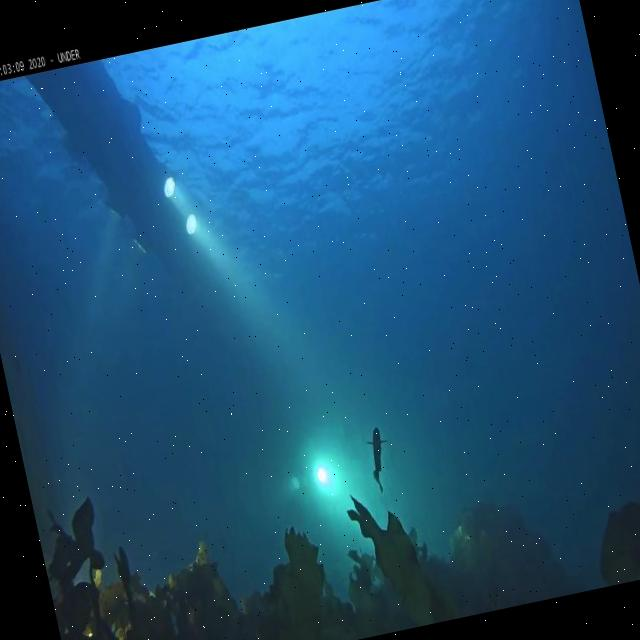fish: (363, 426, 396, 494)
